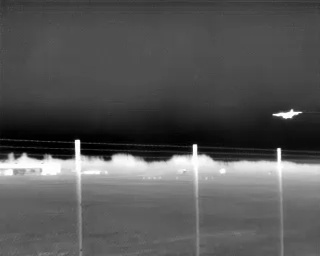AIRPLANE: (269, 106, 305, 122)
